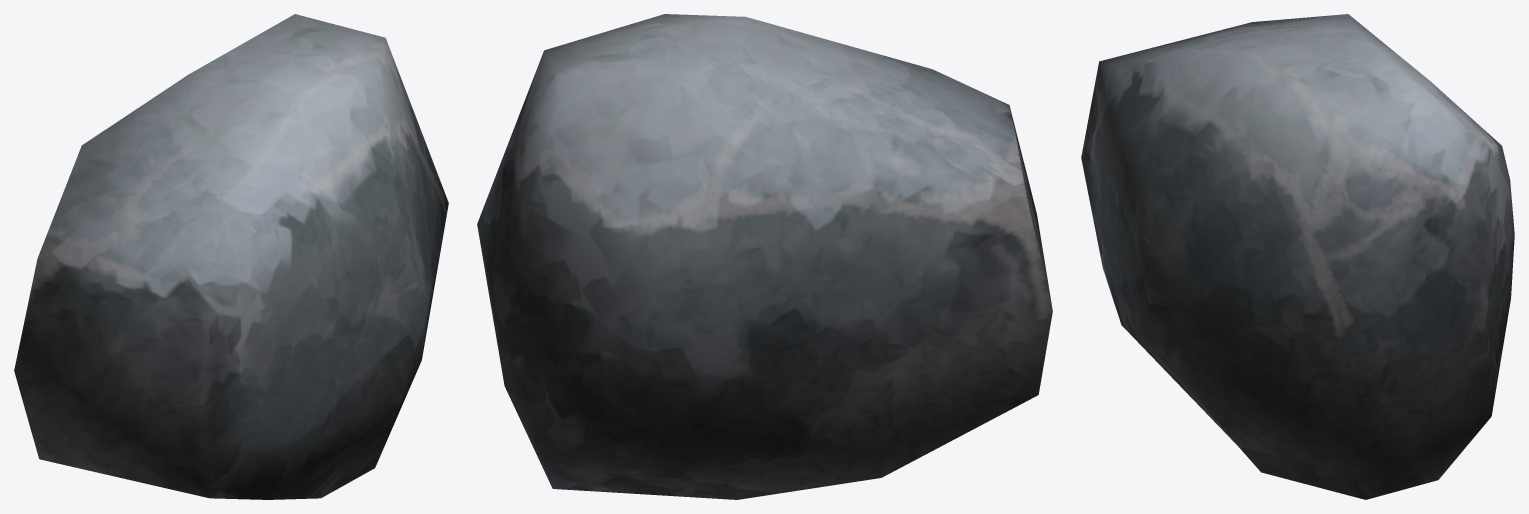
File: Msh_Rock2_Env.fbx
3 views of the same model, side by side, from view 1: azimuth 30°, elevation 25°; view 2: azimuth 150°, elevation 25°; view 3: azimuth 270°, elevation 25° (orthographic). The views are drawn at different scales.
Visible parts, largest first — view 1: Rock_2; view 2: Rock_2; view 3: Rock_2.
Boxes of the visible parts, left/top/right/bottom form: Rock_2: left=14, top=14, right=448, bottom=499; Rock_2: left=477, top=14, right=1052, bottom=499; Rock_2: left=1081, top=14, right=1514, bottom=499.
Bounding box in the file's own units: 38.31 × 30.33 × 30.06.
